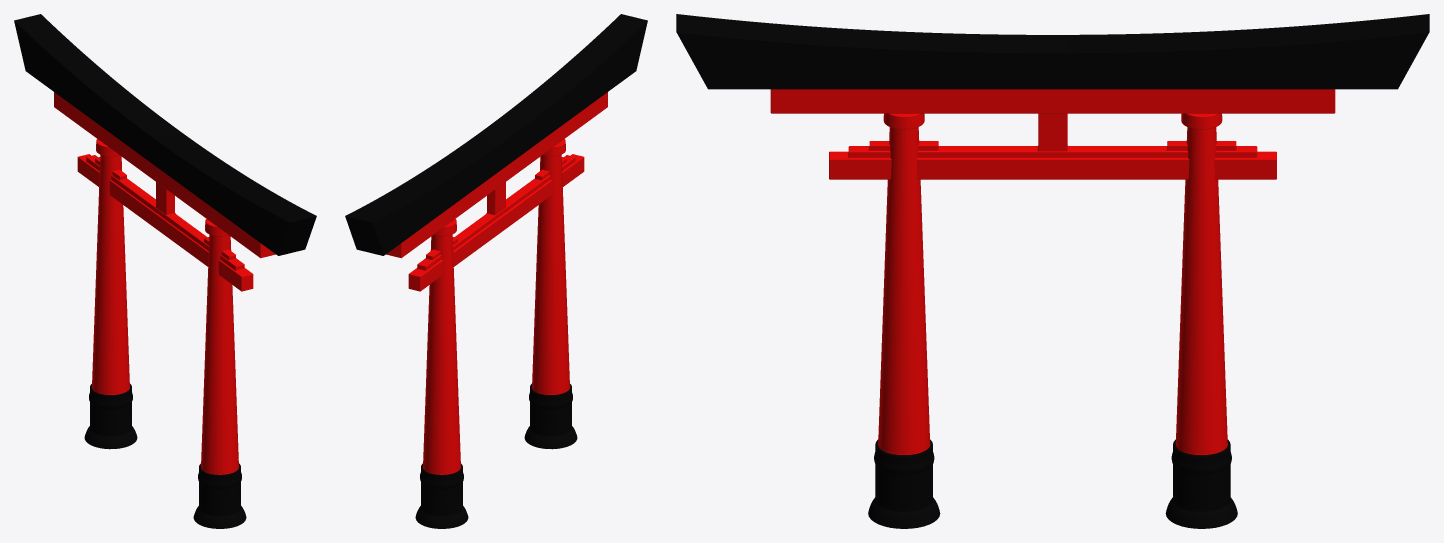
File: torii.fbx
3 renders of one model, left to right at view 1: azimuth 30°, elevation 25°; view 2: azimuth 150°, elevation 25°; view 3: azimuth 270°, elevation 25°, orthographic. The views are drawn at different scales.
Visible parts, largest first — view 1: Torii; view 2: Torii; view 3: Torii.
Part boxes in pixels (left/top/right/bottom): Torii: left=14, top=14, right=316, bottom=528; Torii: left=345, top=14, right=647, bottom=528; Torii: left=676, top=14, right=1429, bottom=528.
Bounding box in the file's own units: 99.52 × 748 × 1040.
